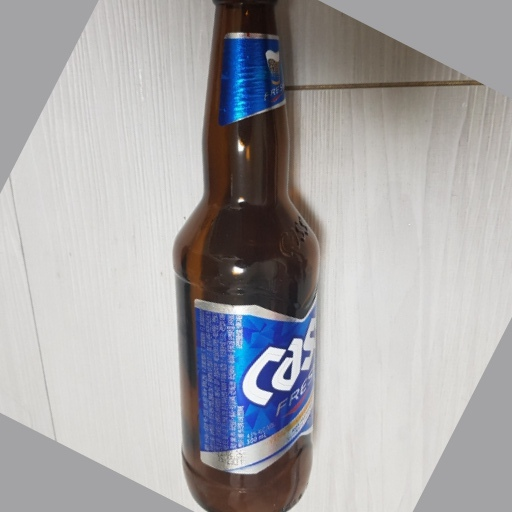Glass_1: (174, 1, 325, 512)
